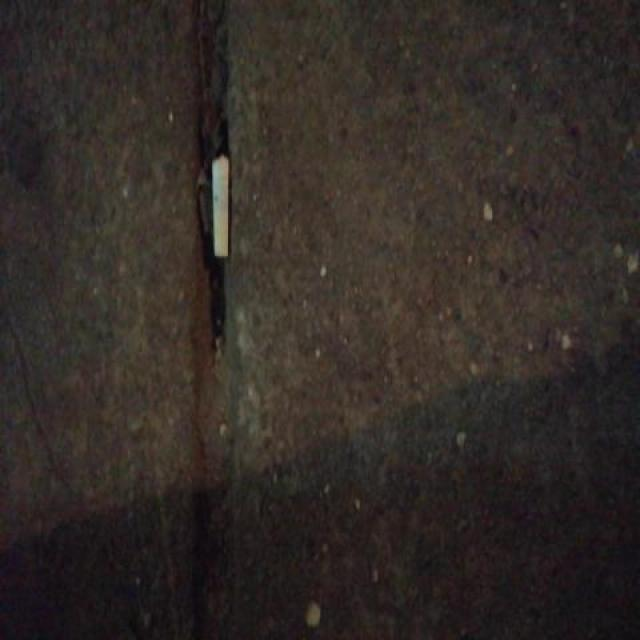non-organic waste: (208, 150, 232, 262)
